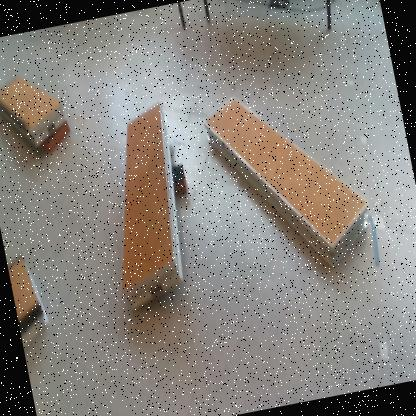Stairs: (204, 97, 370, 273), (121, 101, 184, 314), (1, 76, 68, 149), (8, 253, 50, 354)
